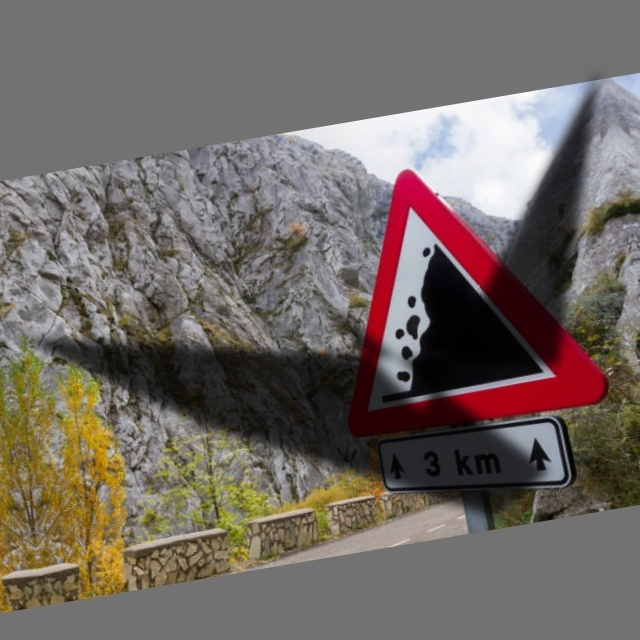Falling_Rocks: (302, 145, 604, 446)
